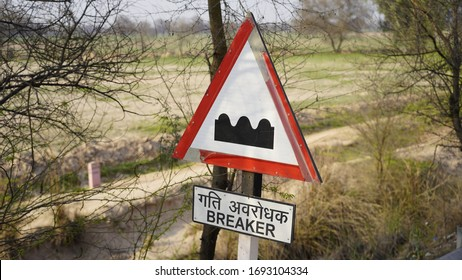speed-breaker: (190, 39, 300, 168)
